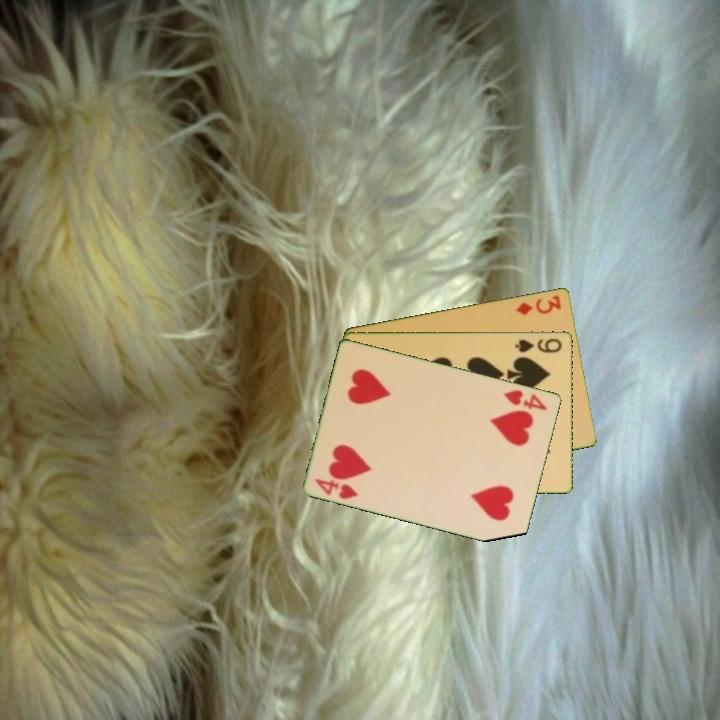3d: (512, 291, 564, 318)
4h: (311, 475, 361, 502), (501, 386, 550, 413)
9s: (512, 335, 565, 355)
